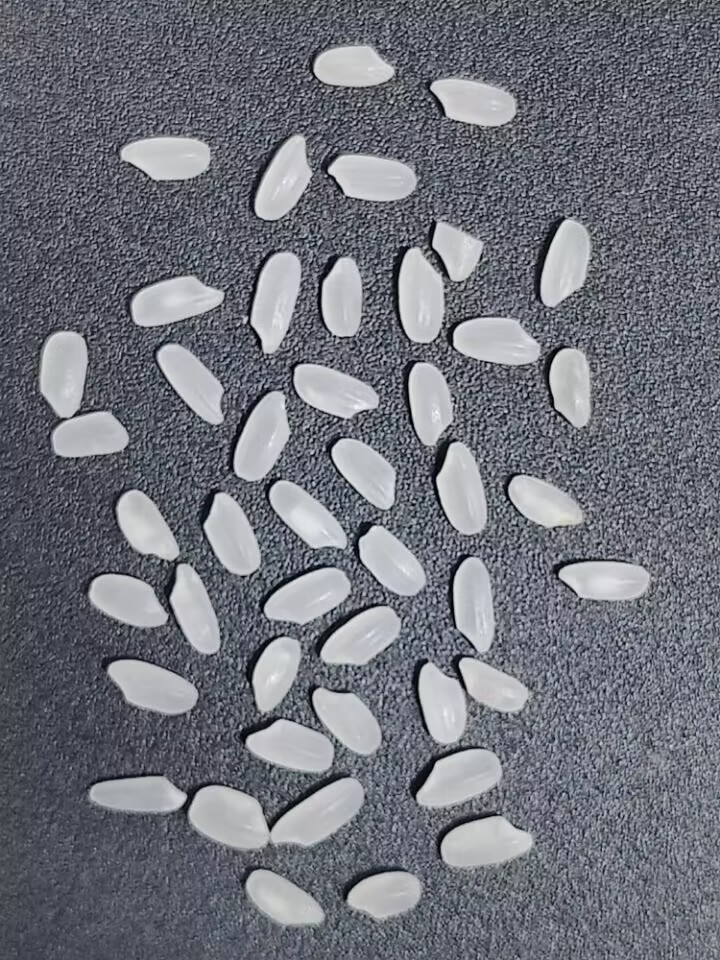broken: (428, 219, 485, 284)
rice: (266, 775, 366, 848), (148, 343, 229, 430), (255, 561, 358, 628), (101, 658, 202, 725), (242, 130, 312, 225), (226, 389, 297, 482), (535, 212, 602, 309), (313, 603, 406, 672), (126, 269, 230, 330), (246, 248, 303, 359), (409, 747, 510, 809), (267, 480, 350, 555), (432, 815, 537, 874), (430, 438, 490, 541), (164, 559, 224, 662), (187, 785, 274, 856), (322, 436, 403, 511), (243, 866, 331, 935), (423, 79, 526, 137), (196, 490, 263, 579), (240, 717, 338, 777), (289, 358, 385, 419), (393, 243, 448, 347), (446, 554, 501, 658), (33, 328, 93, 423), (500, 468, 584, 535), (413, 657, 472, 752), (319, 152, 420, 207), (309, 685, 385, 758), (107, 491, 184, 563), (356, 521, 427, 597), (446, 313, 543, 368), (402, 361, 463, 448), (245, 633, 307, 718), (83, 573, 170, 632), (552, 557, 656, 606), (342, 864, 429, 922), (48, 409, 133, 467), (113, 134, 214, 182), (455, 655, 532, 716), (302, 43, 397, 92), (542, 343, 593, 429), (318, 255, 369, 339), (88, 775, 188, 813)
